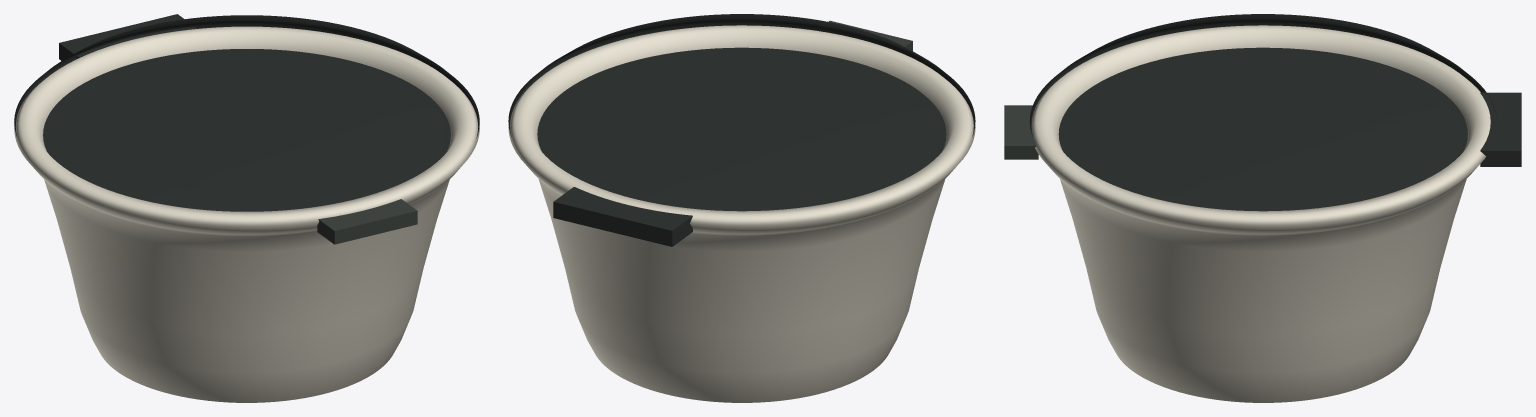
File: hinge-cup.glb
3 views of the same model, side by side, from view 1: azimuth 30°, elevation 25°; view 2: azimuth 150°, elevation 25°; view 3: azimuth 270°, elevation 25° (orthographic).
Parts seen in each view (by area): view 1: Body, Lid, Snap tab, Hinge; view 2: Body, Lid, Hinge; view 3: Body, Lid, Hinge, Snap tab.
Boxes of the visible parts, x1,y1,x2,y2 form: Body: (14,26,479,402); Lid: (14,15,479,211); Snap tab: (317,199,417,244); Hinge: (59,14,197,60); Body: (508,25,975,402); Lid: (508,14,975,211); Hinge: (553,187,692,246); Body: (1032,25,1490,402); Lid: (1029,14,1496,211); Hinge: (1480,92,1521,166); Snap tab: (1004,105,1038,159).
Bounding box in the file's own units: 0.068 × 0.04 × 0.0753.
